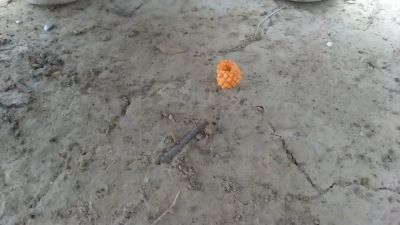eggs: (216, 60, 242, 88)
